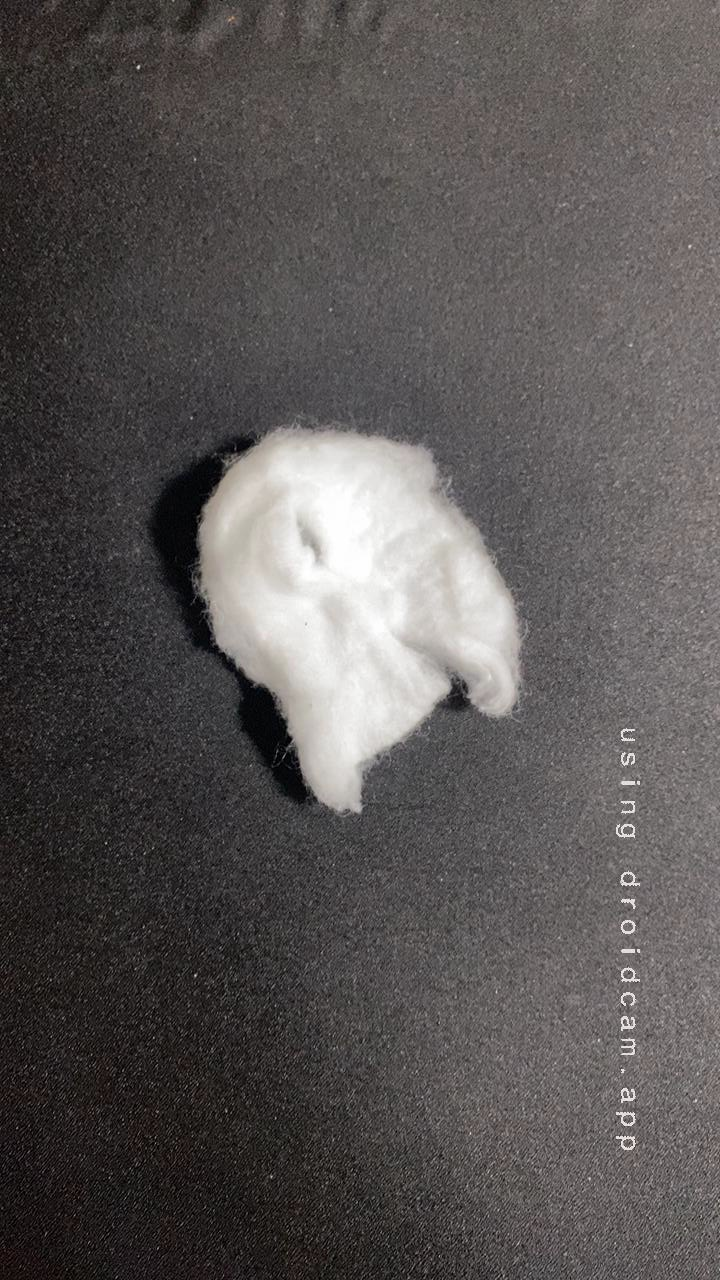cotton: (152, 410, 557, 836)
